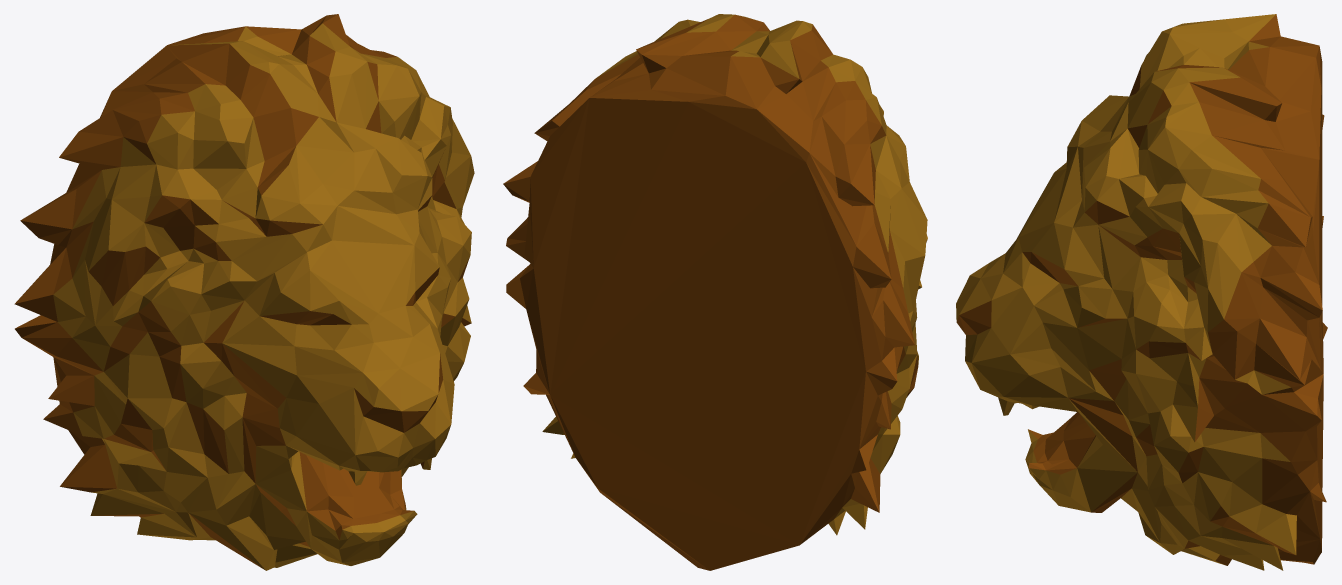
Rendered from MCastle_MasonryFixtures_15.FBX.
3 views of the same model, side by side, from view 1: azimuth 30°, elevation 25°; view 2: azimuth 150°, elevation 25°; view 3: azimuth 270°, elevation 25° (orthographic). The views are drawn at different scales.
Parts seen in each view (by area): view 1: MCastle_MasonryFixtures_15_LOD0; view 2: MCastle_MasonryFixtures_15_LOD0; view 3: MCastle_MasonryFixtures_15_LOD0.
Boxes of the visible parts, bbox=[...] form: MCastle_MasonryFixtures_15_LOD0: bbox=[14, 14, 474, 570]; MCastle_MasonryFixtures_15_LOD0: bbox=[503, 14, 927, 570]; MCastle_MasonryFixtures_15_LOD0: bbox=[956, 14, 1327, 570].
Size of what is drawn, in the model's own units: 2.2 by 2.6 by 1.68.
